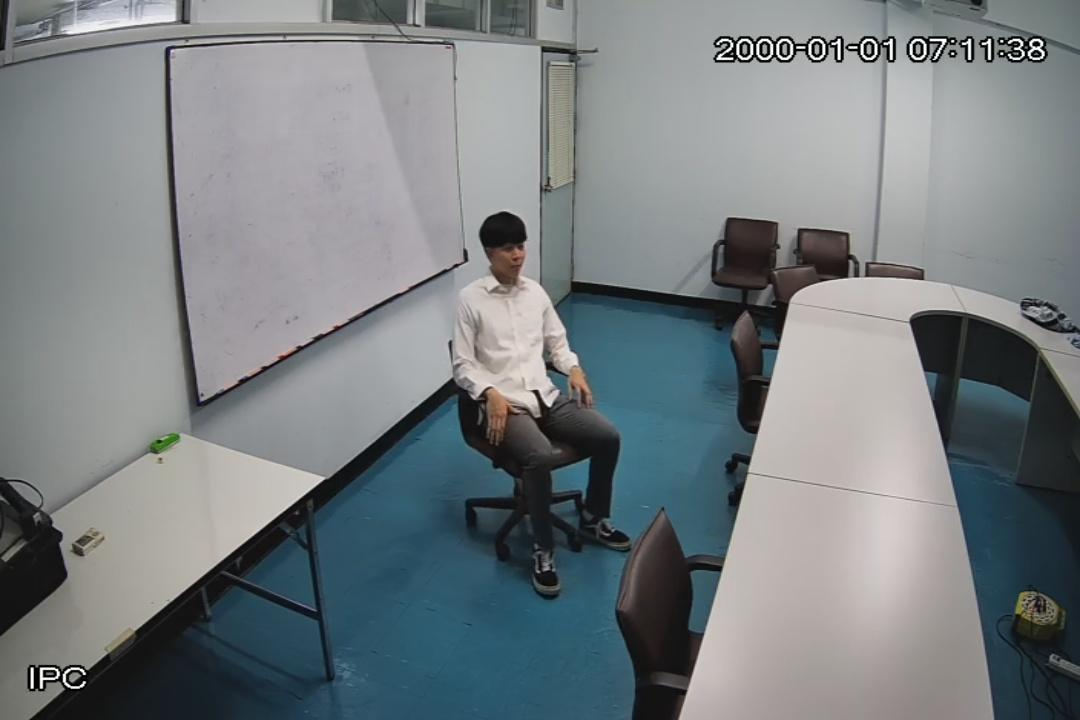normal: (454, 208, 638, 602)
